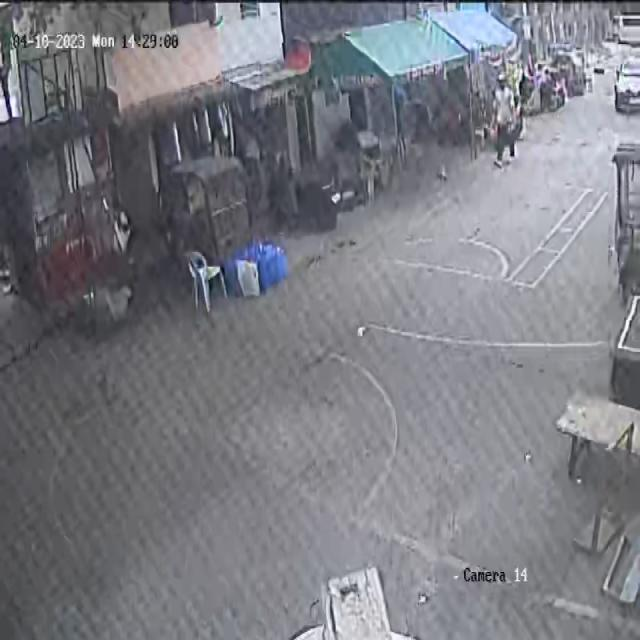human: (488, 73, 524, 170)
